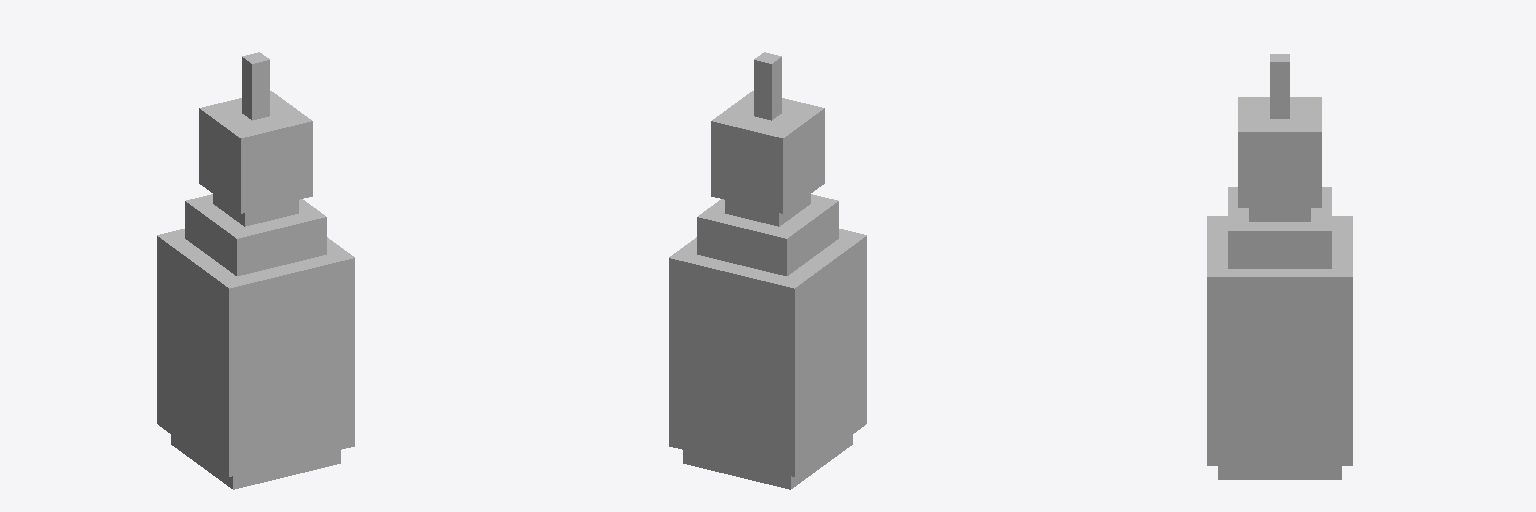
File: enigma.obj
3 views of the same model, side by side, from view 1: azimuth 30°, elevation 25°; view 2: azimuth 150°, elevation 25°; view 3: azimuth 270°, elevation 25° (orthographic).
Parts seen in each view (by area): view 1: Enigma; view 2: Enigma; view 3: Enigma.
Part boxes in pixels (left/top/right/bottom): Enigma: left=157, top=52, right=354, bottom=489; Enigma: left=669, top=52, right=866, bottom=489; Enigma: left=1207, top=54, right=1352, bottom=479.
Size of the model in its own units: 0.2188 by 0.6562 by 0.2188.